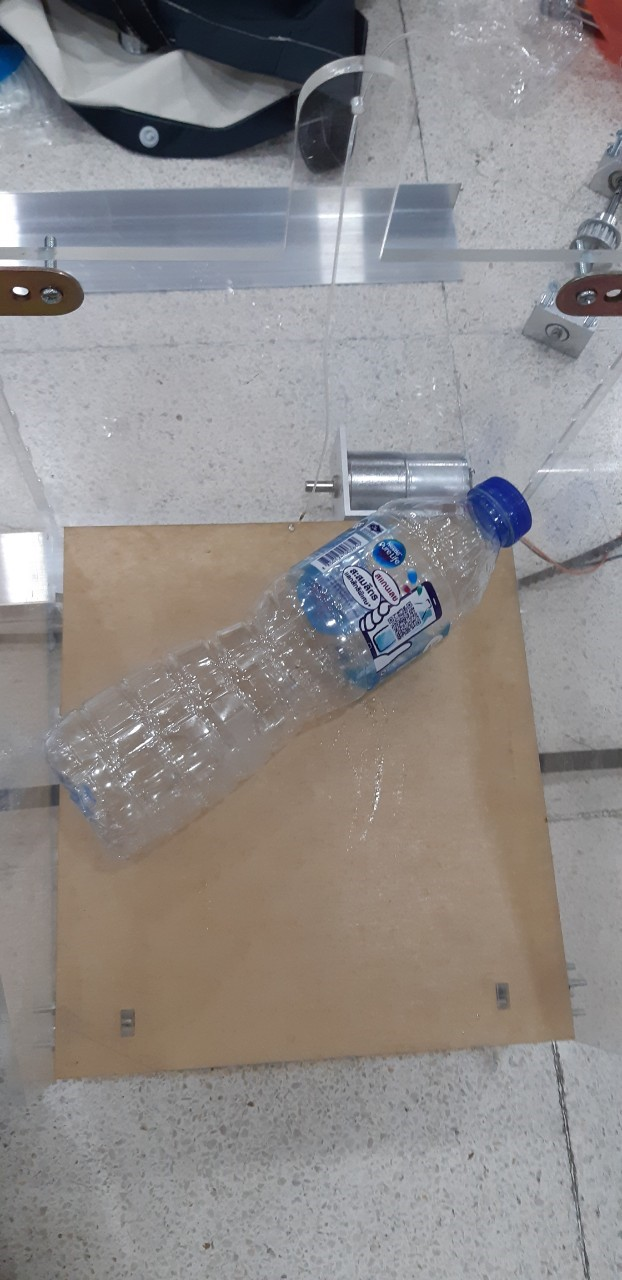PlasticBottle: (48, 475, 532, 861)
